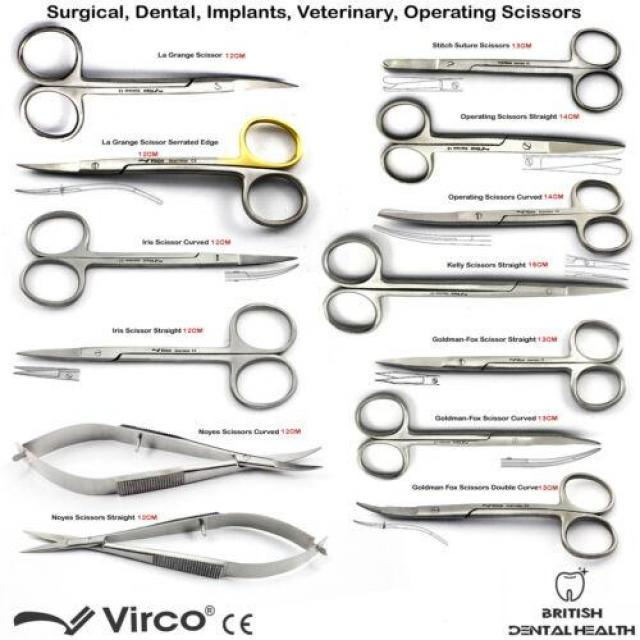scissors: (15, 23, 300, 143), (16, 116, 310, 231), (15, 301, 298, 411), (319, 234, 628, 334), (18, 207, 301, 307), (374, 316, 628, 412), (354, 471, 622, 559), (376, 95, 629, 185), (354, 390, 604, 479), (381, 27, 626, 115), (377, 176, 633, 255)
